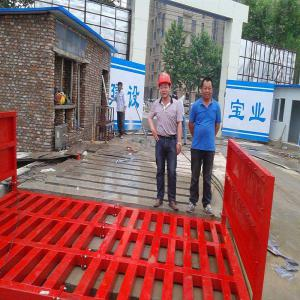none: (202, 78, 214, 101), (118, 81, 124, 91)
red: (159, 72, 173, 100)
